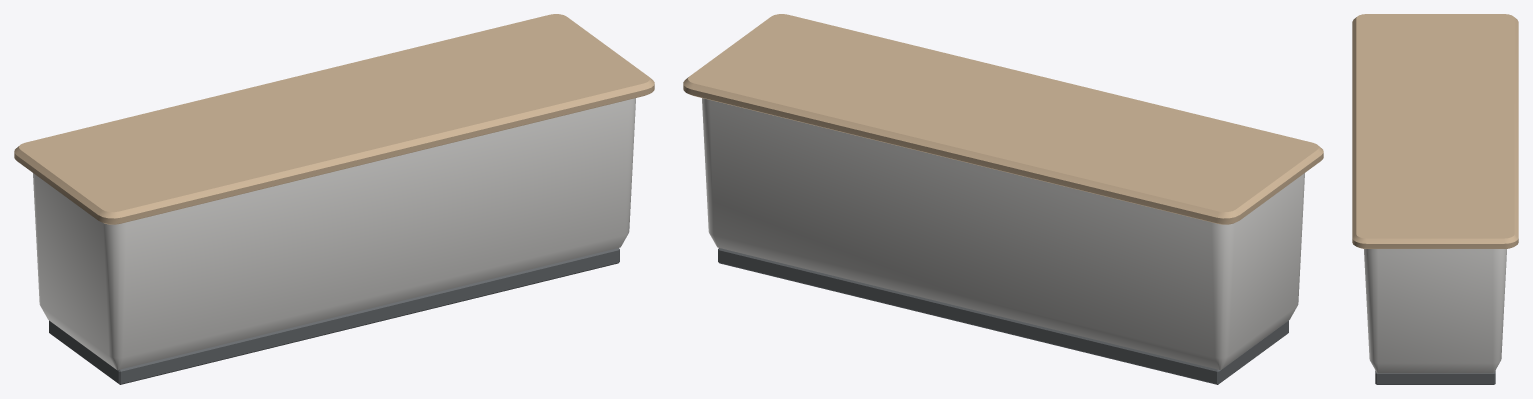
Rendered from SM_Retail_25370_AtriumPlanterTrough.fbx.
3 renders of one model, left to right at view 1: azimuth 30°, elevation 25°; view 2: azimuth 150°, elevation 25°; view 3: azimuth 270°, elevation 25°, orthographic. The views are drawn at different scales.
Visible parts, largest first — view 1: SM_Retail_25370_AtriumPlanterTrough; view 2: SM_Retail_25370_AtriumPlanterTrough; view 3: SM_Retail_25370_AtriumPlanterTrough.
Boxes of the visible parts, <box> form: SM_Retail_25370_AtriumPlanterTrough: <box>14,14,654,384</box>; SM_Retail_25370_AtriumPlanterTrough: <box>683,14,1323,384</box>; SM_Retail_25370_AtriumPlanterTrough: <box>1352,14,1518,384</box>.
Bounding box in the file's own units: 188 × 58 × 60.12.
